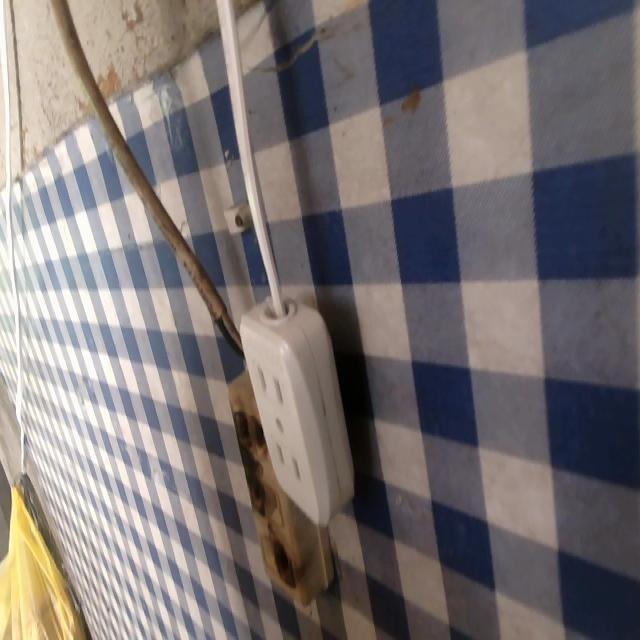-: (226, 403, 276, 456), (267, 532, 300, 593)
